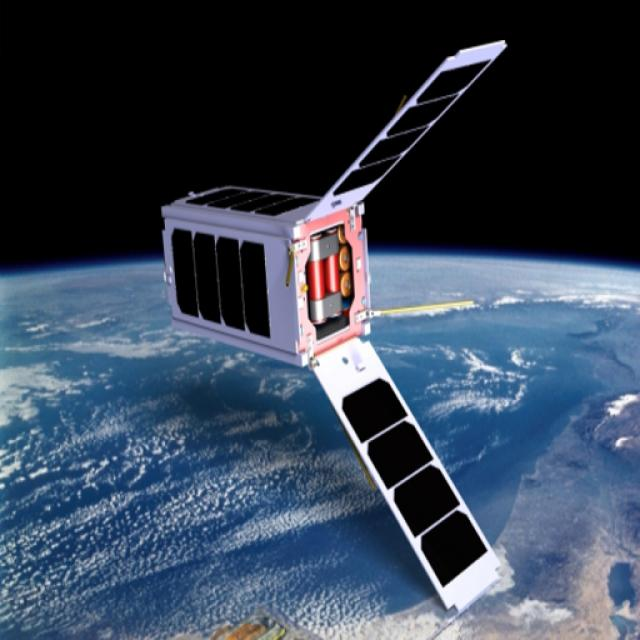satellite: (150, 30, 520, 626)
